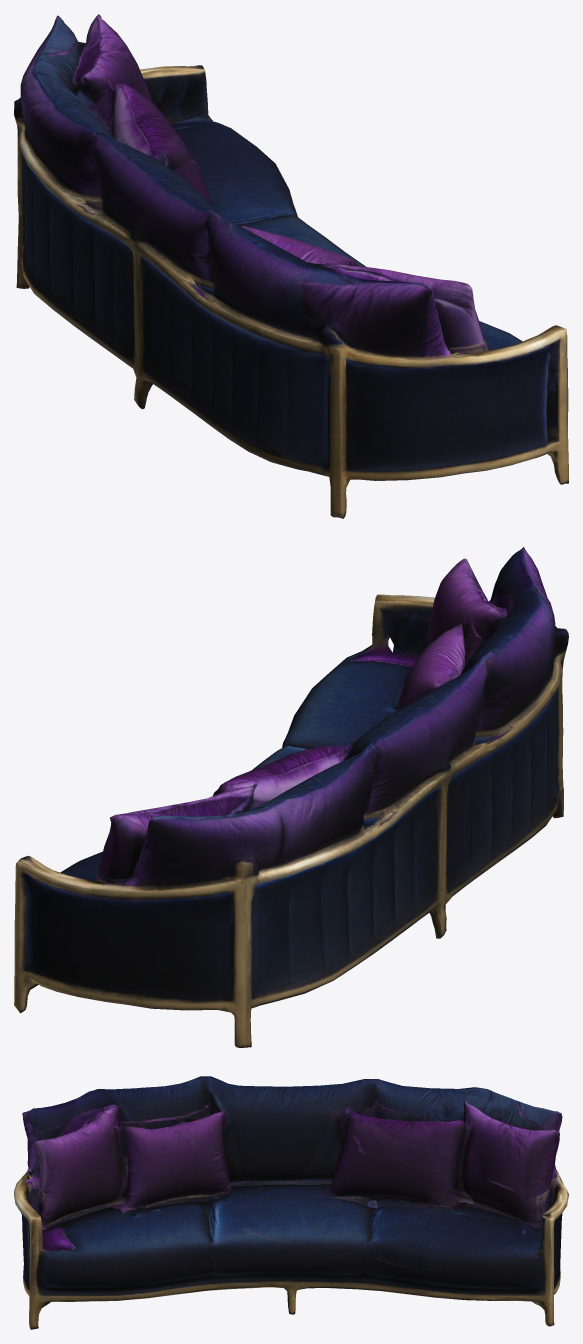
Rendered from Meshy_AI_dark_blue_and_gold_co_0221034501_texture.glb.
3 views of the same model, one above another, from view 1: azimuth 30°, elevation 25°; view 2: azimuth 150°, elevation 25°; view 3: azimuth 270°, elevation 25° (orthographic). The views are drawn at different scales.
Size of the model in its own units: 0.7993 by 0.685 by 1.99.
1 material, 1 textured.
